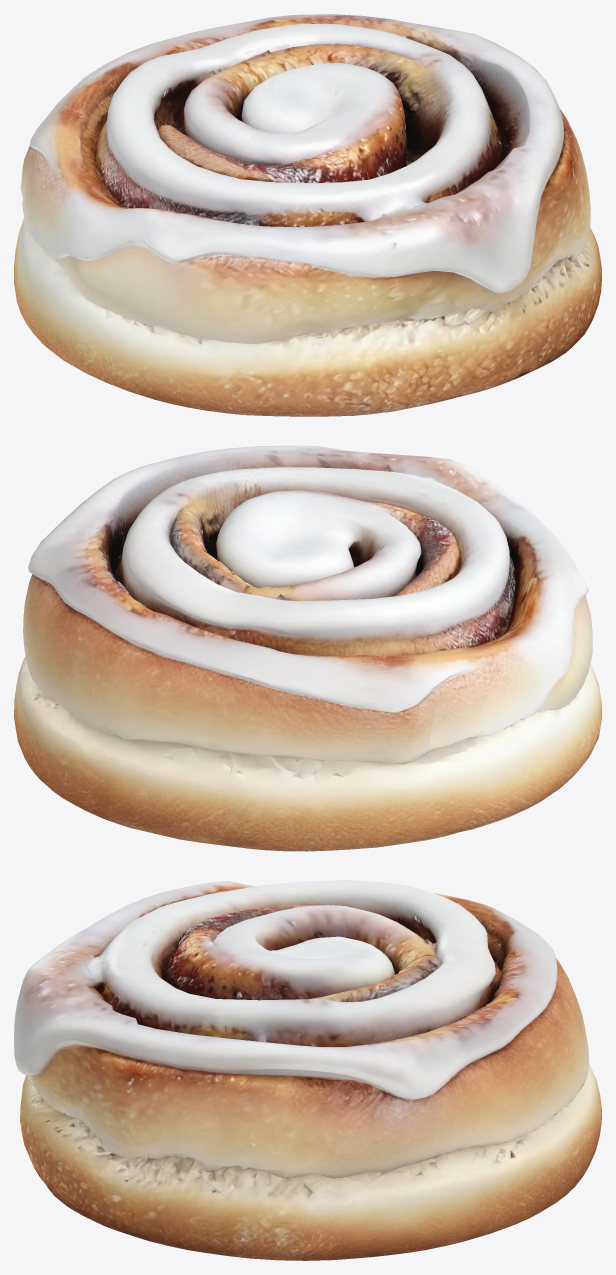
The model's file is roll.glb.
3 renders of one model, top to bottom at view 1: azimuth 30°, elevation 25°; view 2: azimuth 150°, elevation 25°; view 3: azimuth 270°, elevation 25°, orthographic.
Visible parts, largest first — view 1: model; view 2: model; view 3: model.
Boxes of the visible parts, x1,y1,x2,y2 form: model: [14, 14, 601, 416]; model: [14, 445, 601, 851]; model: [14, 880, 601, 1260].
Bounding box in the file's own units: 1.87 × 0.7358 × 1.9.
1 material, 1 textured.
